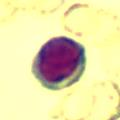lymphocyte: (27, 37, 88, 91)
